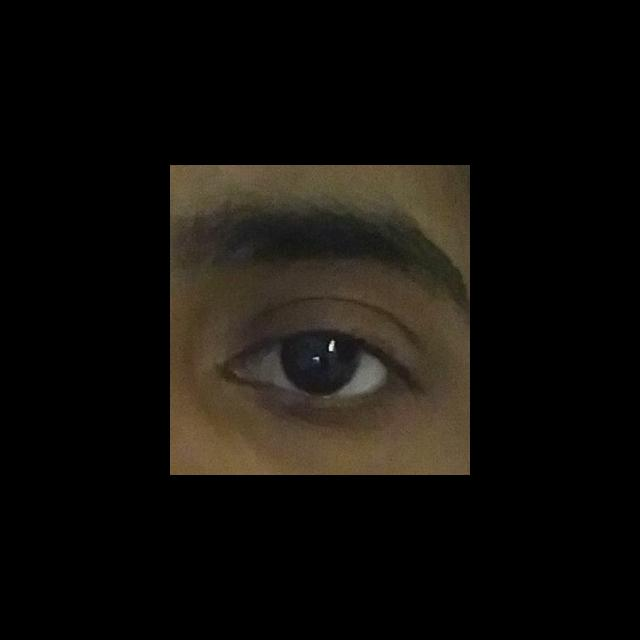eye: (246, 333, 388, 400)
iris: (281, 336, 361, 395)
